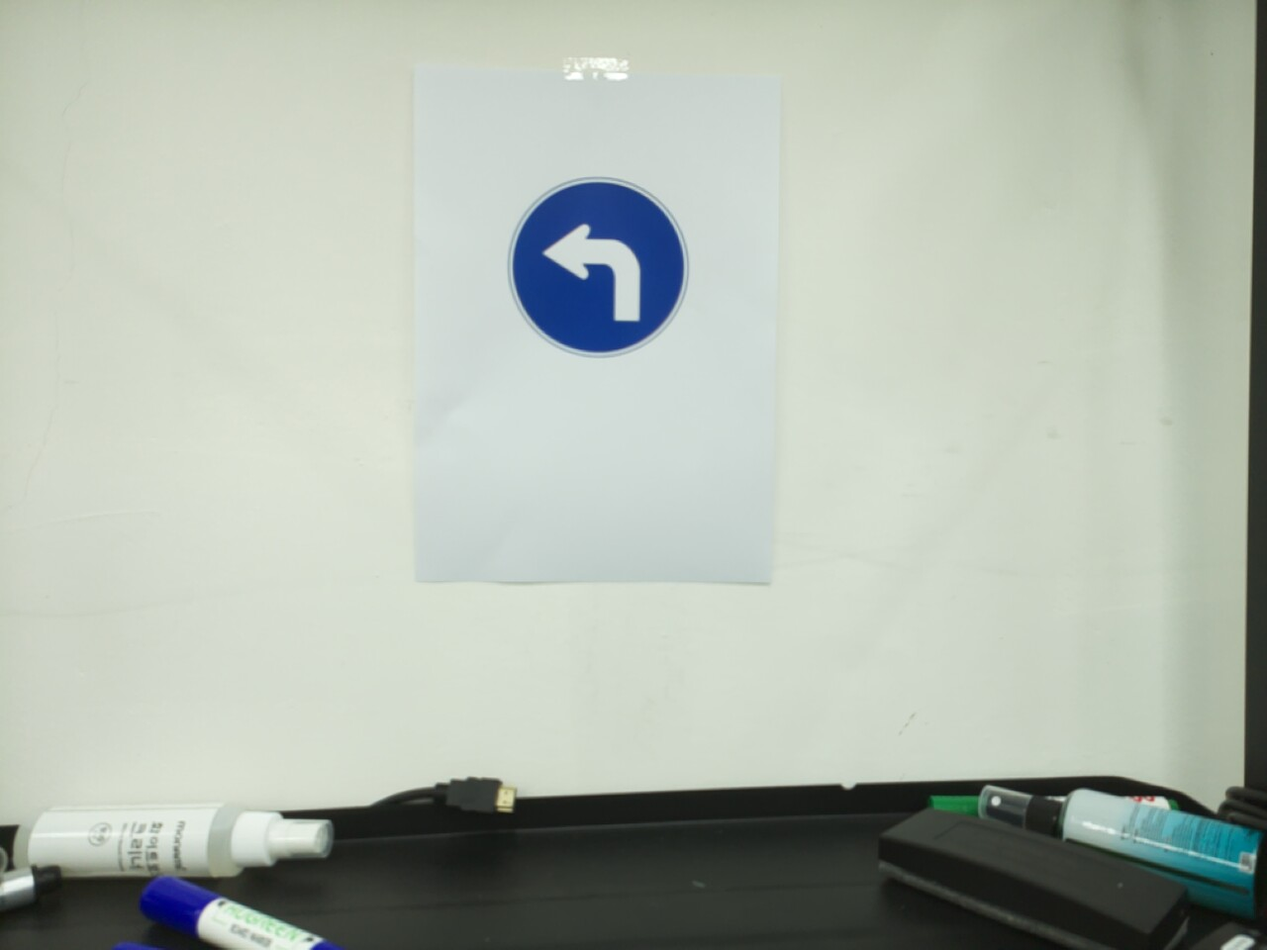left_turn: (506, 175, 691, 359)
